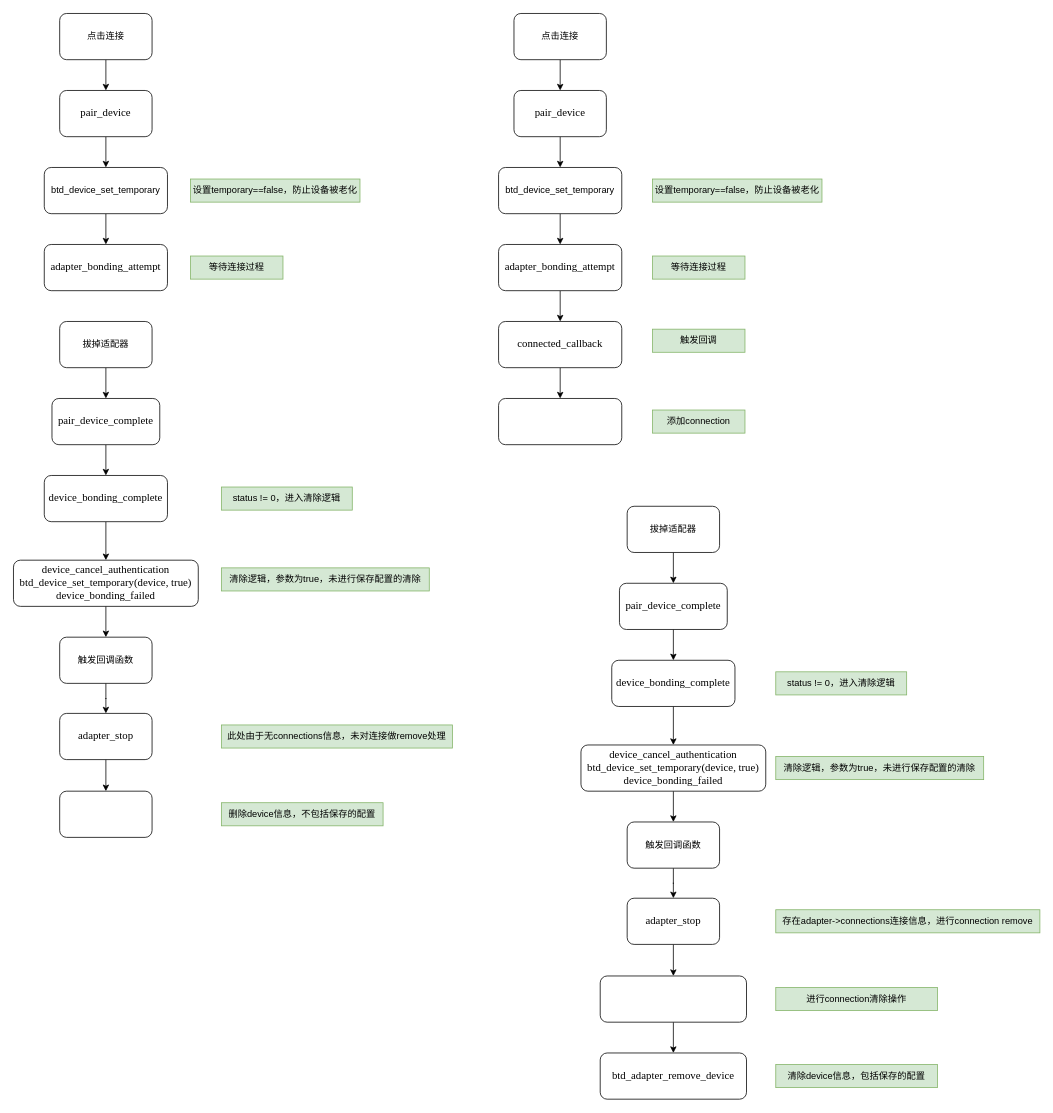
This 1053x1113 diagram has some shape labels left out. The shapes that lost their labels are listed below. From the top down, each one's centre as x and y in pixels, then its label:
At (560,421): "adapter_add_connection".
At (105,813): "device_remove".
At (673,998): "adapter_remove_connection".
